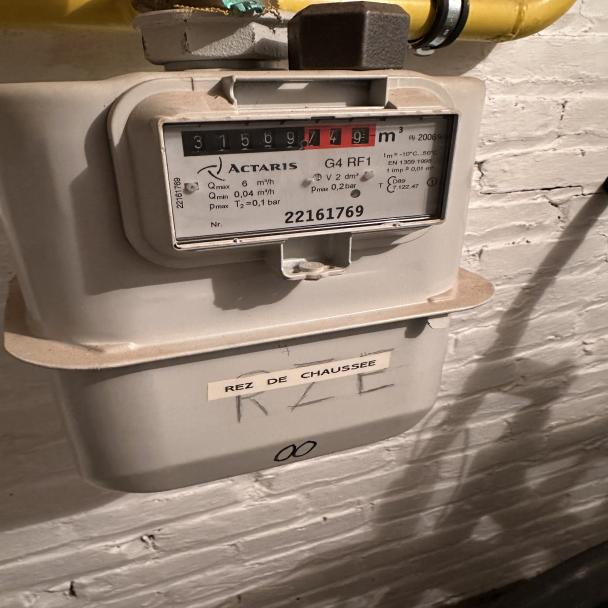1: (212, 128, 241, 152)
3: (185, 129, 218, 153)
4: (322, 125, 350, 148)
5: (235, 130, 260, 153)
6: (255, 129, 285, 153)
7: (300, 126, 332, 150)
9: (346, 126, 380, 149), (281, 128, 305, 154)
cm: (305, 125, 382, 153)
counter: (174, 128, 307, 153)
